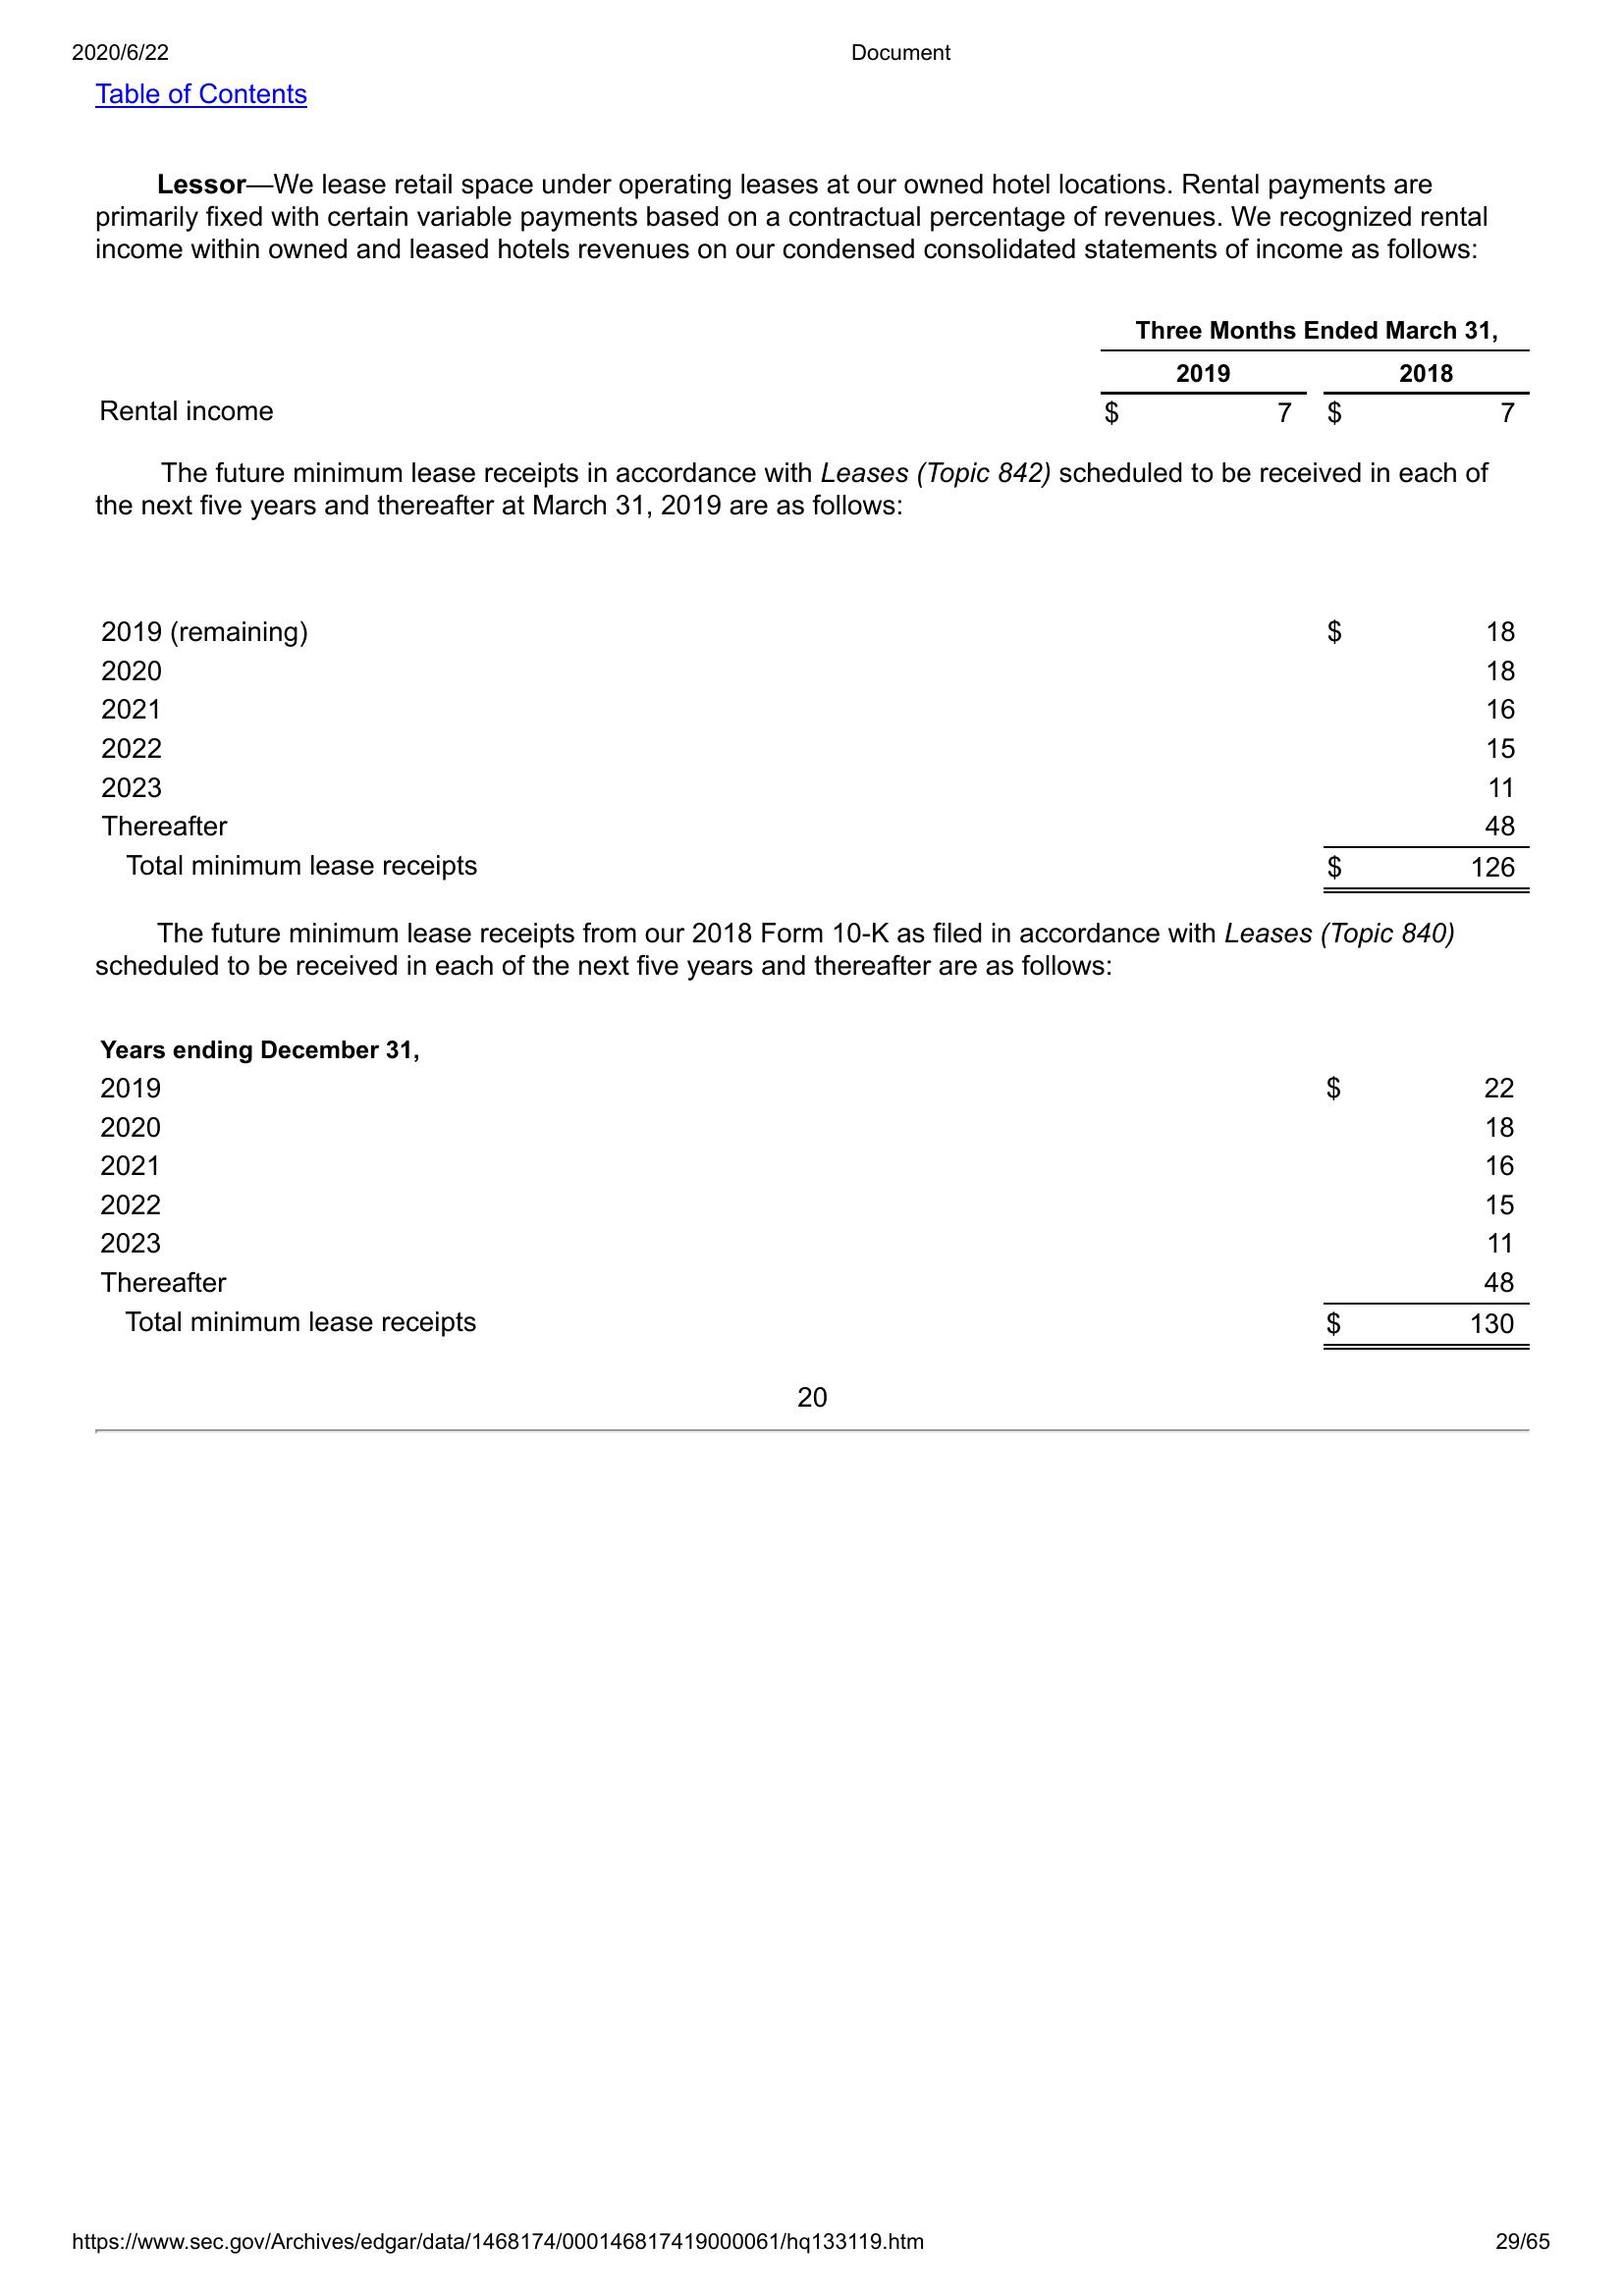table: (91, 1022, 1540, 1353), (95, 595, 1542, 902), (91, 304, 1535, 441)
